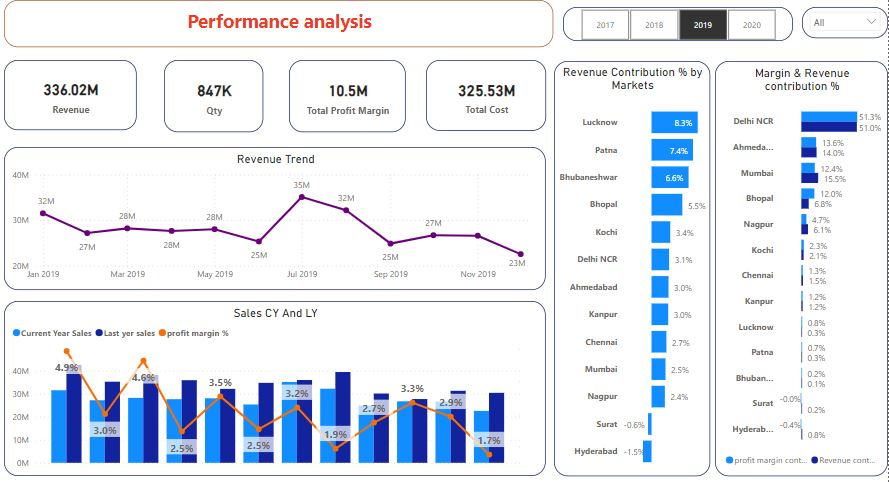

The page's visual inventory and layout, read from the dashboard file:
{"tool":"powerbi","page":{"name":"Performance analysis","canvas":[1280,720],"ordinal":2},"visuals":[{"type":"lineClusteredColumnComboChart","title":"Sales CY And LY","fields":{"Y":["sales customers.Revenue","sales products.year comparison Lv"],"Category":["sales date.cy_date.Variation.Date Hierarchy.Year","sales date.cy_date.Variation.Date Hierarchy.Quarter","sales date.cy_date.Variation.Date Hierarchy.Month"],"Y2":["sales transactions.profit margin % by zone"]},"box":[7.2,440.6,780.5,252],"z":0},{"type":"card","fields":{"Values":["sales customers.Ravenu"]},"box":[7.4,94.1,191.2,101.5],"z":1000},{"type":"card","fields":{"Values":["sales customers.Qty"]},"box":[238.2,94.1,142.6,104.4],"z":2000},{"type":"card","fields":{"Values":["sales transactions.total Profit margin"]},"box":[417.6,94.1,167.6,104.4],"z":3000},{"type":"lineChart","title":"Revenue Trend","fields":{"Y":["Sum(sales transactions.sales_amount)"],"Category":["sales date.date.Variation.Date Hierarchy.Year","sales date.date.Variation.Date Hierarchy.Quarter","sales date.date.Variation.Date Hierarchy.Month"]},"box":[7.2,218.9,780.5,205.9],"z":4000},{"type":"clusteredBarChart","title":"Margin & Revenue contribution % ","fields":{"Category":["sales markets.markets_name"],"Y":["sales transactions.profir margin contribution%","sales transactions.Revenue contribution"]},"box":[1031,95,249.1,597.6],"z":5000},{"type":"slicer","fields":{"Values":["sales date.year"]},"box":[812.2,17.3,331.2,49],"z":6000},{"type":"slicer","fields":{"Values":["sales date.month_name"]},"box":[1156.3,17.3,123.8,44.6],"z":7000},{"type":"textbox","box":[7.4,7.4,791.2,67.6],"z":8000},{"type":"barChart","title":"Revenue Contribution % by Markets","fields":{"Category":["sales markets.markets_name"],"Y":["sales transactions.profit margin %"]},"box":[799.2,95,224.6,597.6],"z":9000},{"type":"card","fields":{"Values":["sales transactions.Total Cost"]},"box":[614.9,93.6,172.8,102.2],"z":10000}]}

Visuals, with their boxes in screenshot pixels (x1, y1, x2, y2):
"Sales CY And LY" lineClusteredColumnComboChart: Rect(7, 298, 544, 471)
card - sales customers.Ravenu: Rect(7, 60, 139, 130)
card - sales customers.Qty: Rect(166, 60, 264, 132)
card - sales transactions.total Profit margin: Rect(289, 60, 404, 132)
"Revenue Trend" lineChart: Rect(7, 146, 544, 287)
"Margin & Revenue contribution % " clusteredBarChart: Rect(711, 61, 882, 471)
slicer - sales date.year: Rect(560, 7, 788, 41)
slicer - sales date.month_name: Rect(797, 7, 882, 38)
textbox: Rect(7, 0, 551, 47)
"Revenue Contribution % by Markets" barChart: Rect(551, 61, 706, 471)
card - sales transactions.Total Cost: Rect(425, 60, 544, 130)
